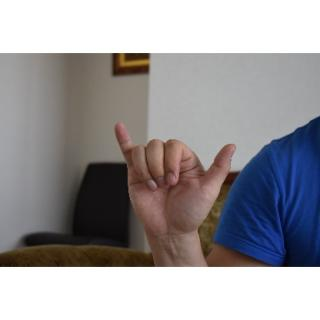YA: (114, 120, 237, 247)
